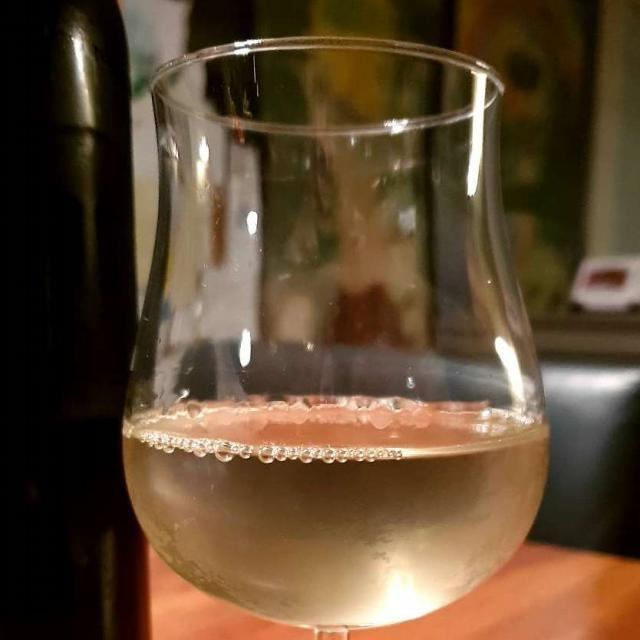wine: (127, 402, 543, 636)
